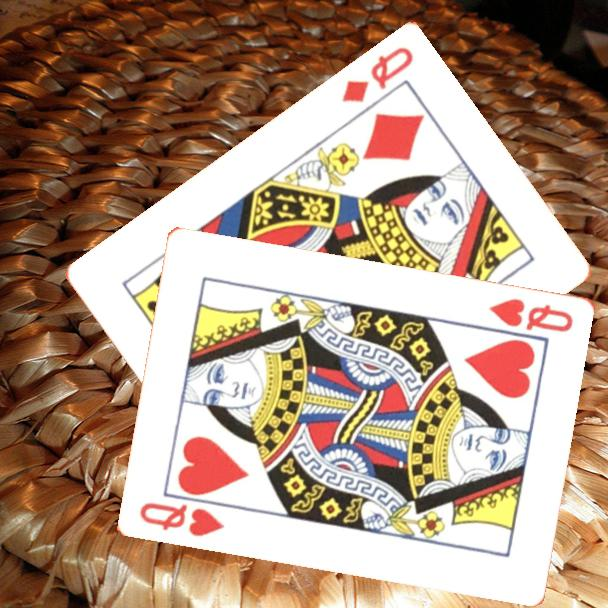d12: (337, 44, 416, 107)
h12: (486, 294, 577, 335), (137, 498, 228, 539)
